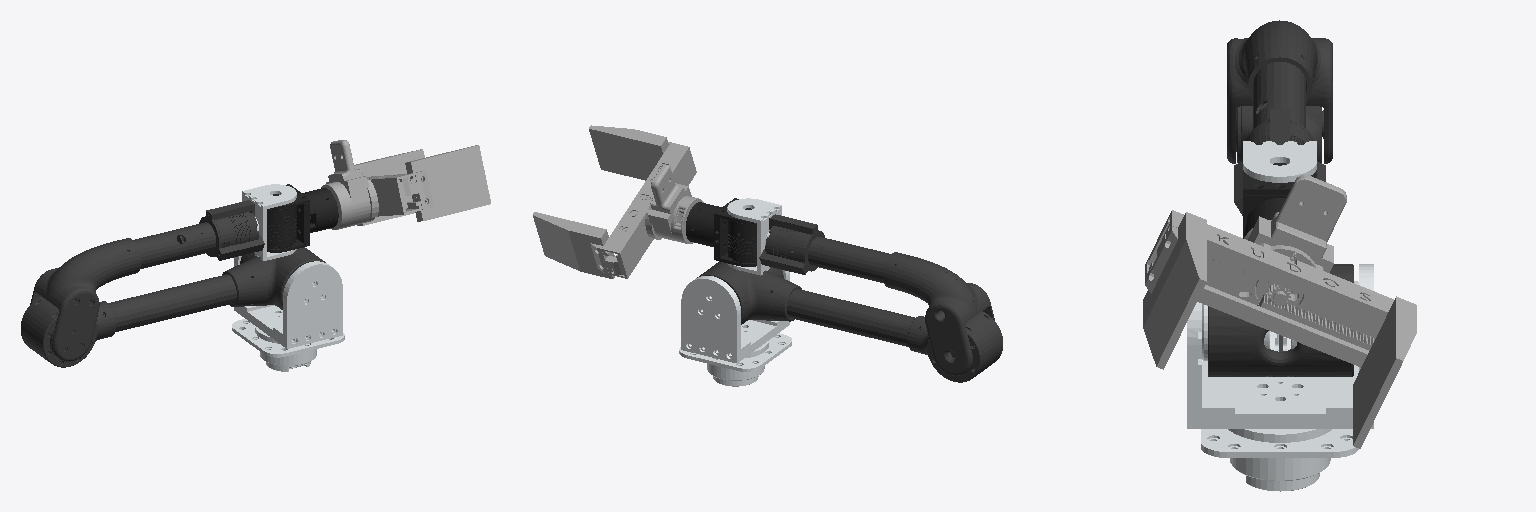
URDF robot description (DROK_P_gripper_D405):
<robot name="DROK_P_gripper_D405">
  <link name="ARM_BASE_LINK">
    <inertial>
      <origin xyz="2.9813E-07 2.5769E-05 -0.0063007" rpy="0 0 0" />
      <mass value="0.68746" />
      <inertia ixx="0.00047228" ixy="3.6123E-09" ixz="-9.4716E-11" iyy="0.00047318" iyz="1.308E-07" izz="0.00078902" />
    </inertial>
    <visual>
      <origin xyz="0 0 0" rpy="0 0 0" />
      <geometry>
        <mesh filename="package://drok_arm_description/meshes/ARM_BASE_LINK.STL" />
      </geometry>
      <material name="">
        <color rgba="0.89804 0.91765 0.92941 1" />
      </material>
    </visual>
  </link>
  <joint name="JOINT1" type="revolute">
    <origin xyz="0 0 0.016" rpy="0 0 0" />
    <parent link="ARM_BASE_LINK" />
    <child link="LINK1" />
    <axis xyz="0 0 1" />
    <limit lower="-6.50000" upper="6.50000" effort="35" velocity="1.2" />
    <dynamics damping="2" friction="0.3" />
  </joint>
  <link name="LINK1">
    <inertial>
      <origin xyz="-6.5604E-05 0.00013328 0.05267" rpy="0 0 0" />
      <mass value="1.8725" />
      <inertia ixx="0.0014717" ixy="-9.2093E-15" ixz="8.8089E-07" iyy="0.0016195" iyz="1.8833E-10" izz="0.0015187" />
    </inertial>
    <visual>
      <origin xyz="0 0 0" rpy="0 0 0" />
      <geometry>
        <mesh filename="package://drok_arm_description/meshes/LINK1.STL" />
      </geometry>
      <material name="">
        <color rgba="0.89804 0.91765 0.92941 1" />
      </material>
    </visual>
  </link>
  <link name="LINK2">
    <inertial>
      <origin xyz="-0.23683 -0.0027683 6.2911E-08" rpy="0 0 0" />
      <mass value="1.0336" />
      <inertia ixx="0.00086339" ixy="2.8839E-06" ixz="-2.0291E-09" iyy="0.0014398" iyz="1.0046E-09" izz="0.0014082" />
    </inertial>
    <visual>
      <origin xyz="0 0 0" rpy="0 0 0" />
      <geometry>
        <mesh filename="package://drok_arm_description/meshes/LINK2.STL" />
      </geometry>
      <material name="">
        <color rgba="0.29804 0.29804 0.29804 1" />
      </material>
    </visual>
    <collision>
      <origin xyz="0 0 0" rpy="0 0 0" />
      <geometry>
        <mesh filename="package://drok_arm_description/meshes/LINK2.STL" />
      </geometry>
    </collision>
  </link>
  <joint name="JOINT2" type="revolute">
    <origin xyz="0 0 0.07" rpy="0 0 0" />
    <parent link="LINK1" />
    <child link="LINK2" />
    <axis xyz="0 1 0" />
    <limit lower="-0.50000" upper="3.14159" effort="35" velocity="1.2" />
    <dynamics damping="2" friction="0.3" />
  </joint>
  <link name="LINK3">
    <inertial>
      <origin xyz="0.10819 -0.00014566 0.068578" rpy="0 0 0" />
      <mass value="0.61657" />
      <inertia ixx="0.00040608" ixy="-1.0224E-06" ixz="-0.0001694" iyy="0.00081082" iyz="-6.7324E-07" izz="0.00057774" />
    </inertial>
    <visual>
      <origin xyz="0 0 0" rpy="0 0 0" />
      <geometry>
        <mesh filename="package://drok_arm_description/meshes/LINK3.STL" />
      </geometry>
      <material name="">
        <color rgba="0.29804 0.29804 0.29804 1" />
      </material>
    </visual>
    <collision>
      <origin xyz="0 0 0" rpy="0 0 0" />
      <geometry>
        <mesh filename="package://drok_arm_description/meshes/LINK3.STL" />
      </geometry>
    </collision>
  </link>
  <joint name="JOINT3" type="revolute">
    <origin xyz="-0.35 -0.00025005 0" rpy="0 0 0" />
    <parent link="LINK2" />
    <child link="LINK3" />
    <axis xyz="0 -1 0" />
    <limit lower="0.00000" upper="3.14159" effort="35" velocity="1.2" />
    <dynamics damping="2" friction="0.3" />
  </joint>
  <link name="LINK4">
    <inertial>
      <origin xyz="0.020782 1.0814E-13 -0.0020268" rpy="0 0 0" />
      <mass value="0.15667" />
      <inertia ixx="5.9832E-05" ixy="-1.0164E-20" ixz="-1.6147E-07" iyy="4.862E-05" iyz="-2.099E-20" izz="6.3367E-05" />
    </inertial>
    <visual>
      <origin xyz="0 0 0" rpy="0 0 0" />
      <geometry>
        <mesh filename="package://drok_arm_description/meshes/LINK4.STL" />
      </geometry>
      <material name="">
        <color rgba="0.89804 0.91765 0.92941 1" />
      </material>
    </visual>
    <collision>
      <origin xyz="0 0 0" rpy="0 0 0" />
      <geometry>
        <mesh filename="package://drok_arm_description/meshes/LINK4.STL" />
      </geometry>
    </collision>
  </link>
  <joint name="JOINT4" type="revolute">
    <origin xyz="0.29265 0 0.083467" rpy="0 0 0" />
    <parent link="LINK3" />
    <child link="LINK4" />
    <axis xyz="1 0 0" />
    <limit lower="-5.89101" upper="2.64243" effort="35" velocity="1.2" />
    <dynamics damping="2" friction="0.3" />
  </joint>
  <link name="LINK5">
    <inertial>
      <origin xyz="0.016203 -5.9624E-05 0.0040656" rpy="0 0 0" />
      <mass value="0.31154" />
      <inertia ixx="0.00010707" ixy="1.3296E-07" ixz="-5.2633E-08" iyy="0.00010649" iyz="7.1844E-07" izz="0.00015875" />
    </inertial>
    <visual>
      <origin xyz="0 0 0" rpy="0 0 0" />
      <geometry>
        <mesh filename="package://drok_arm_description/meshes/LINK5.STL" />
      </geometry>
      <material name="">
        <color rgba="0.20392 0.20392 0.20392 1" />
      </material>
    </visual>
    <collision>
      <origin xyz="0 0 0" rpy="0 0 0" />
      <geometry>
        <mesh filename="package://drok_arm_description/meshes/LINK5.STL" />
      </geometry>
    </collision>
  </link>
  <joint name="JOINT5" type="revolute">
    <origin xyz="0.038 0 0" rpy="0 0 0" />
    <parent link="LINK4" />
    <child link="LINK5" />
    <axis xyz="0 0 -1" />
    <limit lower="-1.52175" upper="1.31947" effort="35" velocity="1.2" />
    <dynamics damping="2" friction="0.3" />
  </joint>
  <link name="LINK6">
    <inertial>
      <origin xyz="0.028305 -0.00023763 0.011044" rpy="0 0 0" />
      <mass value="0.093458" />
      <inertia ixx="5.2224E-05" ixy="-1.3959E-07" ixz="-2.0275E-06" iyy="3.5228E-05" iyz="3.7919E-07" izz="3.453E-05" />
    </inertial>
    <visual>
      <origin xyz="0 0 0" rpy="0 0 0" />
      <geometry>
        <mesh filename="package://drok_arm_description/meshes/LINK6.STL" />
      </geometry>
      <material name="">
        <color rgba="0.69804 0.69804 0.69804 1" />
      </material>
    </visual>
    <collision>
      <origin xyz="0 0 0" rpy="0 0 0" />
      <geometry>
        <mesh filename="package://drok_arm_description/meshes/LINK6.STL" />
      </geometry>
    </collision>
  </link>
  <joint name="JOINT6" type="revolute">
    <origin xyz="0.081 0 0" rpy="-0.41888 0 0" />
    <parent link="LINK5" />
    <child link="LINK6" />
    <axis xyz="-1 0 0" />
    <limit lower="-2.87729" upper="1.31150" effort="35" velocity="1.0" />
    <dynamics damping="2" friction="0.3" />
  </joint>
  <link name="GRIPPER_BASE">
    <inertial>
      <origin xyz="-0.015957 3.8498E-06 -6.7084E-05" rpy="0 0 0" />
      <mass value="0.090747" />
      <inertia ixx="0.00026818" ixy="-2.3586E-09" ixz="6.6695E-08" iyy="3.2287E-05" iyz="-7.8052E-09" izz="0.0002532" />
    </inertial>
    <visual>
      <origin xyz="0 0 0" rpy="0 0 0" />
      <geometry>
        <mesh filename="package://drok_arm_description/meshes/GRIPPER_BASE.STL" />
      </geometry>
      <material name="">
        <color rgba="0.69804 0.69804 0.69804 1" />
      </material>
    </visual>
  </link>
  <joint name="LINK6_TO_GRIPPER_BASE_FIXED" type="fixed">
    <origin xyz="0.08 0 0" rpy="0 0 0" />
    <parent link="LINK6" />
    <child link="GRIPPER_BASE" />
    <axis xyz="0 0 0" />
  </joint>
  <link name="GRIPPER_LEFT">
    <inertial>
      <origin xyz="-0.017307 0.0022021 -0.0021854" rpy="0 0 0" />
      <mass value="0.088523" />
      <inertia ixx="6.4058E-05" ixy="-1.7328E-06" ixz="-1.1979E-06" iyy="0.00010173" iyz="-2.9905E-06" izz="8.4227E-05" />
    </inertial>
    <visual>
      <origin xyz="0 0 0" rpy="0 0 0" />
      <geometry>
        <mesh filename="package://drok_arm_description/meshes/GRIPPER_LEFT.STL" />
      </geometry>
      <material name="">
        <color rgba="0.69804 0.69804 0.69804 1" />
      </material>
    </visual>
    <collision>
      <origin xyz="0 0.0015 0" rpy="0 0 0" />
      <geometry>
        <box size="0.040 0.003 0.040" />
      </geometry>
    </collision>
  </link>
  <joint name="JOINT7" type="prismatic">
    <origin xyz="0.0594 0.078 0" rpy="0 0 0" />
    <parent link="GRIPPER_BASE" />
    <child link="GRIPPER_LEFT" />
    <axis xyz="0 -1 0" />
    <limit lower="0.0" upper="0.05"
           effort="100.0" velocity="0.05" />
    <dynamics damping="1.0" friction="0.1" />
  </joint>
  <link name="GRIPPER_RIGH">
    <inertial>
      <origin xyz="-0.017307 -0.0022021 0.0021854" rpy="0 0 0" />
      <mass value="0.088523" />
      <inertia ixx="6.4058E-05" ixy="1.7328E-06" ixz="1.1979E-06" iyy="0.00010173" iyz="-2.9905E-06" izz="8.4227E-05" />
    </inertial>
    <visual>
      <origin xyz="0 0 0" rpy="0 0 0" />
      <geometry>
        <mesh filename="package://drok_arm_description/meshes/GRIPPER_RIGH.STL" />
      </geometry>
      <material name="">
        <color rgba="0.69804 0.69804 0.69804 1" />
      </material>
    </visual>
    <collision>
      <origin xyz="0 -0.0015 0" rpy="0 0 0" />
      <geometry>
        <box size="0.040 0.003 0.040" />
      </geometry>
    </collision>
  </link>
  <joint name="GRIPPER_RIGHT_JOINT" type="prismatic">
    <origin xyz="0.0594 -0.078 0" rpy="0 0 0" />
    <parent link="GRIPPER_BASE" />
    <child link="GRIPPER_RIGH" />
    <axis xyz="0 -1 0" />
    <limit lower="-0.05" upper="0.0"
           effort="100.0" velocity="0.05" />
    <dynamics damping="1.0" friction="0.1" />
  </joint>
  <link name="gripper_center" />
  <joint name="GRIPPER_CENTER_FIXED_JOINT" type="fixed">
    <parent link="GRIPPER_BASE" />
    <child link="gripper_center" />
    <origin xyz="0.0594 0 0" rpy="0 0 0" />
  </joint>
  <link name="gripper_tcp" />
  <joint name="GRIPPER_TCP_FIXED_JOINT" type="fixed">
    <parent link="gripper_center" />
    <child link="gripper_tcp" />
    <origin xyz="0 0 0" rpy="0 0 0" />
  </joint>
  <ros2_control name="MujocoSystem" type="system">
    <hardware>
      <plugin>mujoco_ros2_control/MujocoSystemInterface</plugin>
      <param name="sim_speed_factor">1.0</param>
      <param name="headless">false</param>
    </hardware>
    <joint name="JOINT1">
      <command_interface name="position" />
      <state_interface name="position">
        <param name="initial_value">0.0</param>
      </state_interface>
      <state_interface name="velocity" />
      <state_interface name="effort" />
      <state_interface name="torque" />
    </joint>
    <joint name="JOINT2">
      <command_interface name="position" />
      <state_interface name="position">
        <param name="initial_value">0.3</param>
      </state_interface>
      <state_interface name="velocity" />
      <state_interface name="effort" />
      <state_interface name="torque" />
    </joint>
    <joint name="JOINT3">
      <command_interface name="position" />
      <state_interface name="position">
        <param name="initial_value">0.3</param>
      </state_interface>
      <state_interface name="velocity" />
      <state_interface name="effort" />
      <state_interface name="torque" />
    </joint>
    <joint name="JOINT4">
      <command_interface name="position" />
      <state_interface name="position">
        <param name="initial_value">0.0</param>
      </state_interface>
      <state_interface name="velocity" />
      <state_interface name="effort" />
      <state_interface name="torque" />
    </joint>
    <joint name="JOINT5">
      <command_interface name="position" />
      <state_interface name="position">
        <param name="initial_value">0.0</param>
      </state_interface>
      <state_interface name="velocity" />
      <state_interface name="effort" />
      <state_interface name="torque" />
    </joint>
    <joint name="JOINT6">
      <command_interface name="position" />
      <state_interface name="position">
        <param name="initial_value">0.0</param>
      </state_interface>
      <state_interface name="velocity" />
      <state_interface name="effort" />
      <state_interface name="torque" />
    </joint>
  
    <joint name="JOINT7">
      <command_interface name="position" />
      <state_interface name="position">
        <param name="initial_value">0.0</param>
      </state_interface>
      <state_interface name="velocity" />
      <state_interface name="effort" />
      <state_interface name="torque" />
    </joint>

    <joint name="GRIPPER_RIGHT_JOINT">
      <command_interface name="position" />
      <state_interface name="position">
        <param name="initial_value">0.0</param>
      </state_interface>
      <state_interface name="velocity" />
      <state_interface name="effort" />
      <state_interface name="torque" />
    </joint>
</ros2_control>
</robot>

--- Facts derived from the render (not from the file) ---
Views: 3 orthographic renders of the robot side by side, from view 1: azimuth 30°, elevation 25°; view 2: azimuth 150°, elevation 25°; view 3: azimuth 270°, elevation 25°.
Model DROK_P_gripper_D405 with 12 links and 11 joints (6 revolute, 2 prismatic, 3 fixed), rooted at ARM_BASE_LINK, posed all joints at 0.
Visible links, largest first — view 1: LINK3, LINK2, LINK1, GRIPPER_RIGH, LINK5, LINK6, ARM_BASE_LINK, GRIPPER_BASE, LINK4, GRIPPER_LEFT; view 2: LINK3, LINK2, LINK1, GRIPPER_BASE, GRIPPER_LEFT, LINK5, GRIPPER_RIGH, LINK6, ARM_BASE_LINK, LINK4; view 3: GRIPPER_BASE, LINK3, LINK1, LINK2, ARM_BASE_LINK, GRIPPER_RIGH, GRIPPER_LEFT, LINK6, LINK4, LINK5.
Link boxes in pixels (<box>): LINK3: <box>30,200,264,361</box>; LINK2: <box>21,247,325,367</box>; LINK1: <box>234,256,342,348</box>; GRIPPER_RIGH: <box>399,145,490,221</box>; LINK5: <box>267,184,338,252</box>; LINK6: <box>321,140,370,229</box>; ARM_BASE_LINK: <box>232,319,344,371</box>; GRIPPER_BASE: <box>367,173,421,221</box>; LINK4: <box>242,184,296,260</box>; GRIPPER_LEFT: <box>354,149,424,225</box>; LINK3: <box>759,214,994,375</box>; LINK2: <box>697,261,1002,382</box>; LINK1: <box>681,270,789,362</box>; GRIPPER_BASE: <box>602,142,696,278</box>; GRIPPER_LEFT: <box>533,212,622,278</box>; LINK5: <box>686,198,756,266</box>; GRIPPER_RIGH: <box>589,125,670,200</box>; LINK6: <box>648,164,703,243</box>; ARM_BASE_LINK: <box>679,333,791,386</box>; LINK4: <box>727,198,781,275</box>; GRIPPER_BASE: <box>1145,210,1393,367</box>; LINK3: <box>1227,20,1332,215</box>; LINK1: <box>1187,264,1373,428</box>; LINK2: <box>1208,106,1353,376</box>; ARM_BASE_LINK: <box>1201,429,1358,491</box>; GRIPPER_RIGH: <box>1143,212,1296,369</box>; GRIPPER_LEFT: <box>1257,295,1416,448</box>; LINK6: <box>1244,175,1346,287</box>; LINK4: <box>1243,141,1316,182</box>; LINK5: <box>1243,163,1316,238</box>.
Bounding box of the posed robot: 0.6471 × 0.2061 × 0.2933 m (x, y, z).
Meshes: 10 distinct files referenced, 10 mesh visuals loaded (10 binary STL).
